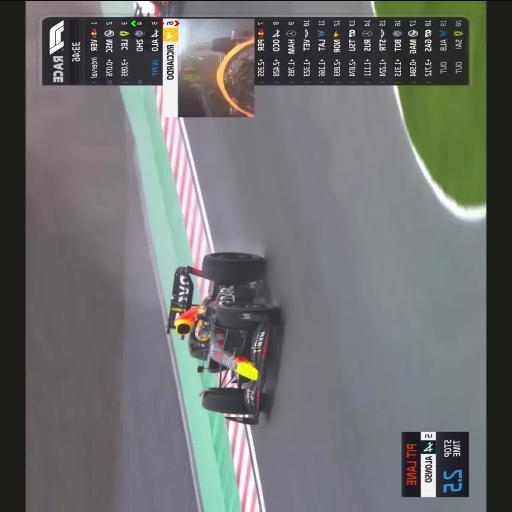f1_car: (167, 251, 279, 423)
